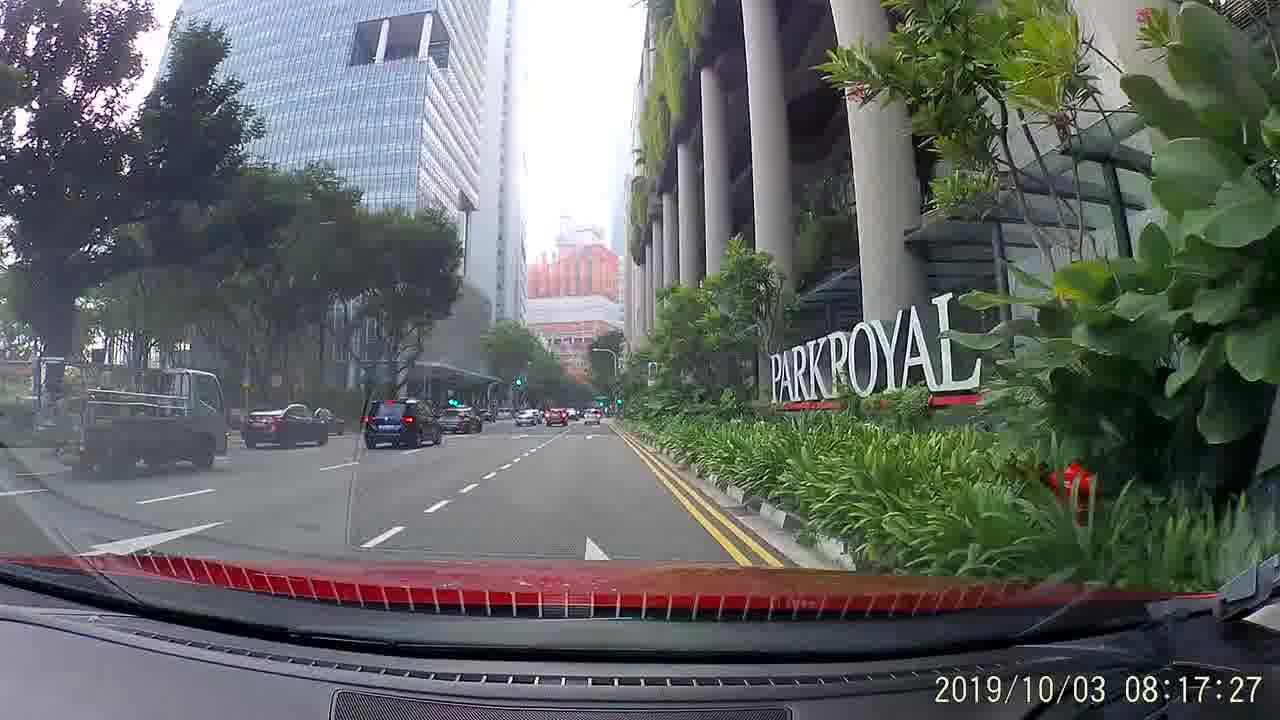car: (243, 401, 331, 452), (359, 397, 445, 449), (436, 405, 482, 433), (541, 406, 571, 427), (515, 407, 540, 427), (579, 407, 604, 427)
